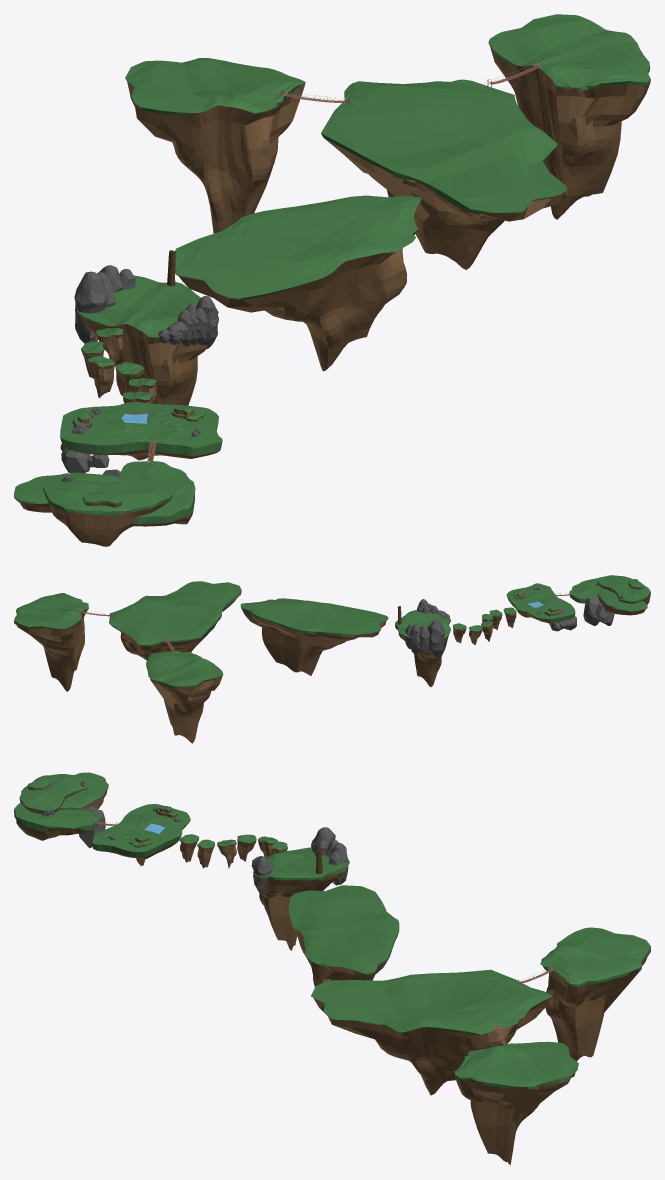
File: Cenario.fbx
3 views of the same model, one above another, from view 1: azimuth 30°, elevation 25°; view 2: azimuth 150°, elevation 25°; view 3: azimuth 270°, elevation 25° (orthographic). The views are drawn at different scales.
Visible parts, largest first — view 1: FasePlataformas, LowPolyRock.022, ponte.002; view 2: FasePlataformas, LowPolyRock.022; view 3: FasePlataformas, LowPolyRock.022.
Part boxes in pixels (x1,y1,x2,y2): FasePlataformas: (14, 14, 650, 546); LowPolyRock.022: (60, 265, 218, 482); ponte.002: (147, 60, 546, 463); FasePlataformas: (14, 575, 650, 743); LowPolyRock.022: (405, 581, 635, 658); FasePlataformas: (14, 772, 650, 1165); LowPolyRock.022: (42, 781, 348, 895).
Bounding box in the file's own units: 26599 × 5359 × 22545.
